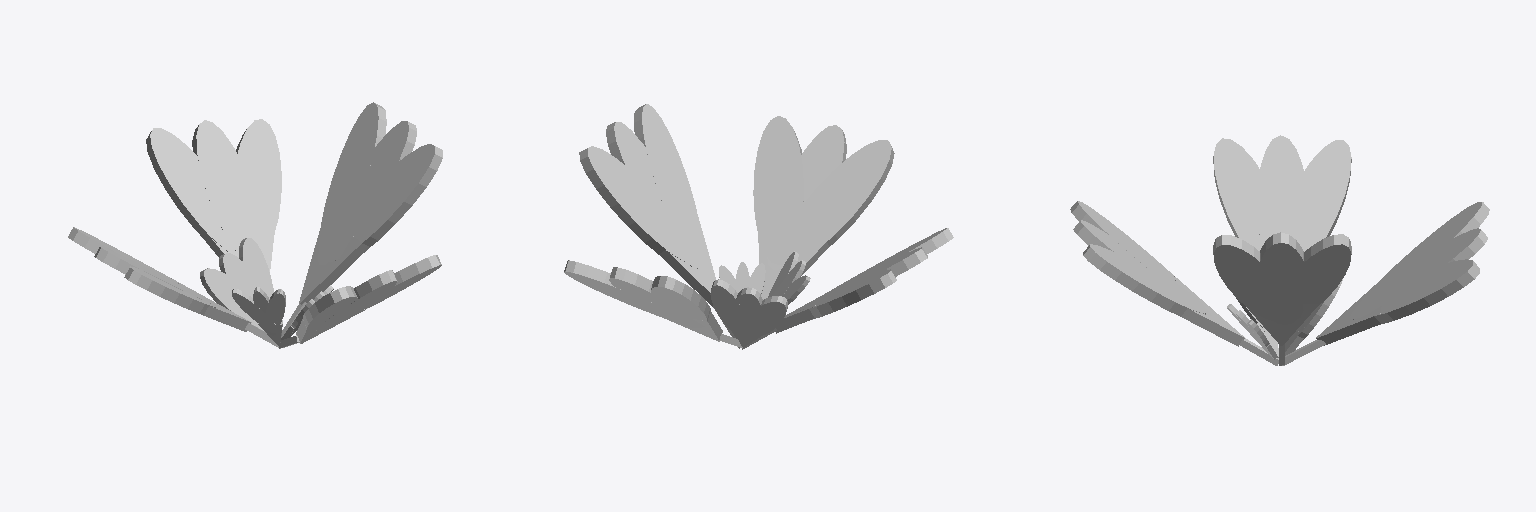
File: Cabbage_Half.obj
3 renders of one model, left to right at view 1: azimuth 30°, elevation 25°; view 2: azimuth 150°, elevation 25°; view 3: azimuth 270°, elevation 25°, orthographic.
Visible parts, largest first — view 1: Cylinder, Cylinder 1, Cylinder 2, Cube 1; view 2: Cylinder 1, Cylinder, Cylinder 2, Cube 1; view 3: Cylinder 2, Cylinder 1, Cylinder, Cube 1.
Boxes of the visible parts, x1,y1,x2,y2 form: Cylinder: [124, 128, 442, 332]; Cylinder 1: [68, 102, 441, 332]; Cylinder 2: [94, 120, 416, 335]; Cube 1: [171, 226, 369, 346]; Cylinder 1: [564, 116, 896, 334]; Cylinder: [634, 104, 953, 337]; Cylinder 2: [606, 122, 927, 336]; Cube 1: [658, 217, 829, 347]; Cylinder 2: [1073, 135, 1487, 353]; Cylinder 1: [1083, 140, 1479, 346]; Cylinder: [1070, 138, 1489, 351]; Cube 1: [1174, 245, 1381, 359].
Size of the model in its own units: 2.18 by 1.27 by 2.48.